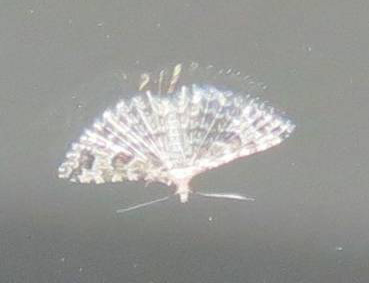Alucitidae: (53, 54, 298, 215)
moth: (55, 56, 300, 217)
